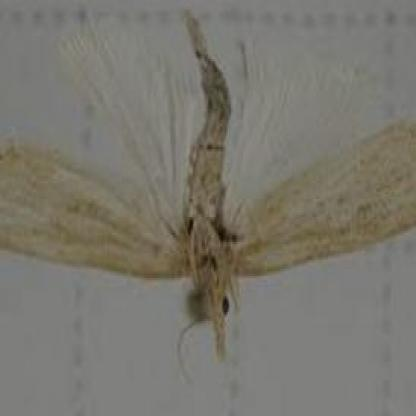stem-borer: (0, 21, 416, 359)
